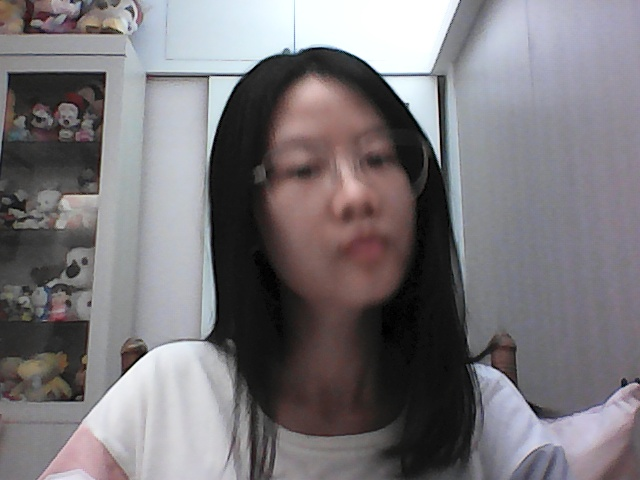NoMask: (266, 199, 427, 316)
